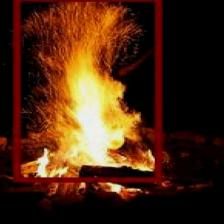fire: (12, 0, 161, 181)
